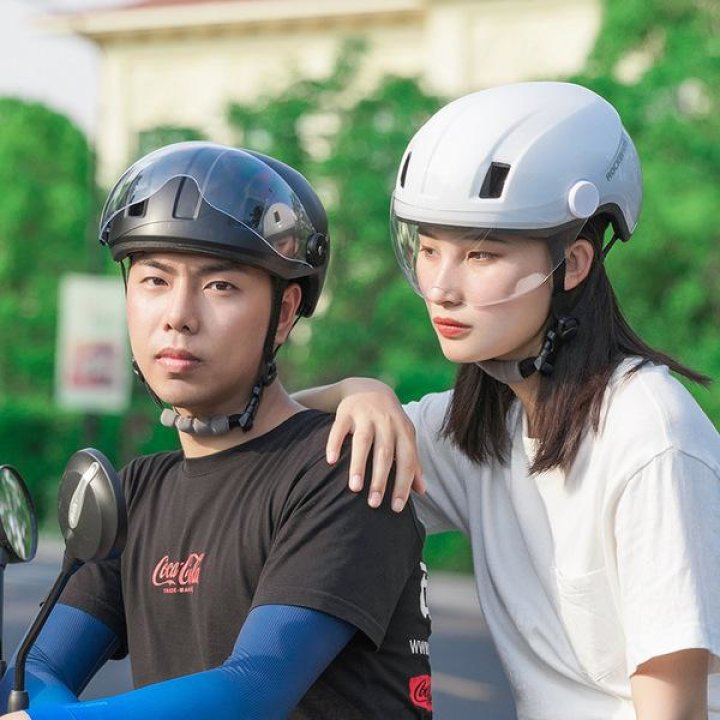with helmet: (385, 77, 648, 378), (97, 134, 327, 409)
